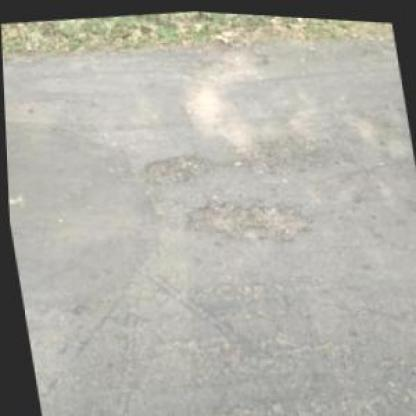pothole: (177, 182, 319, 252), (236, 124, 334, 182), (139, 146, 215, 190)
